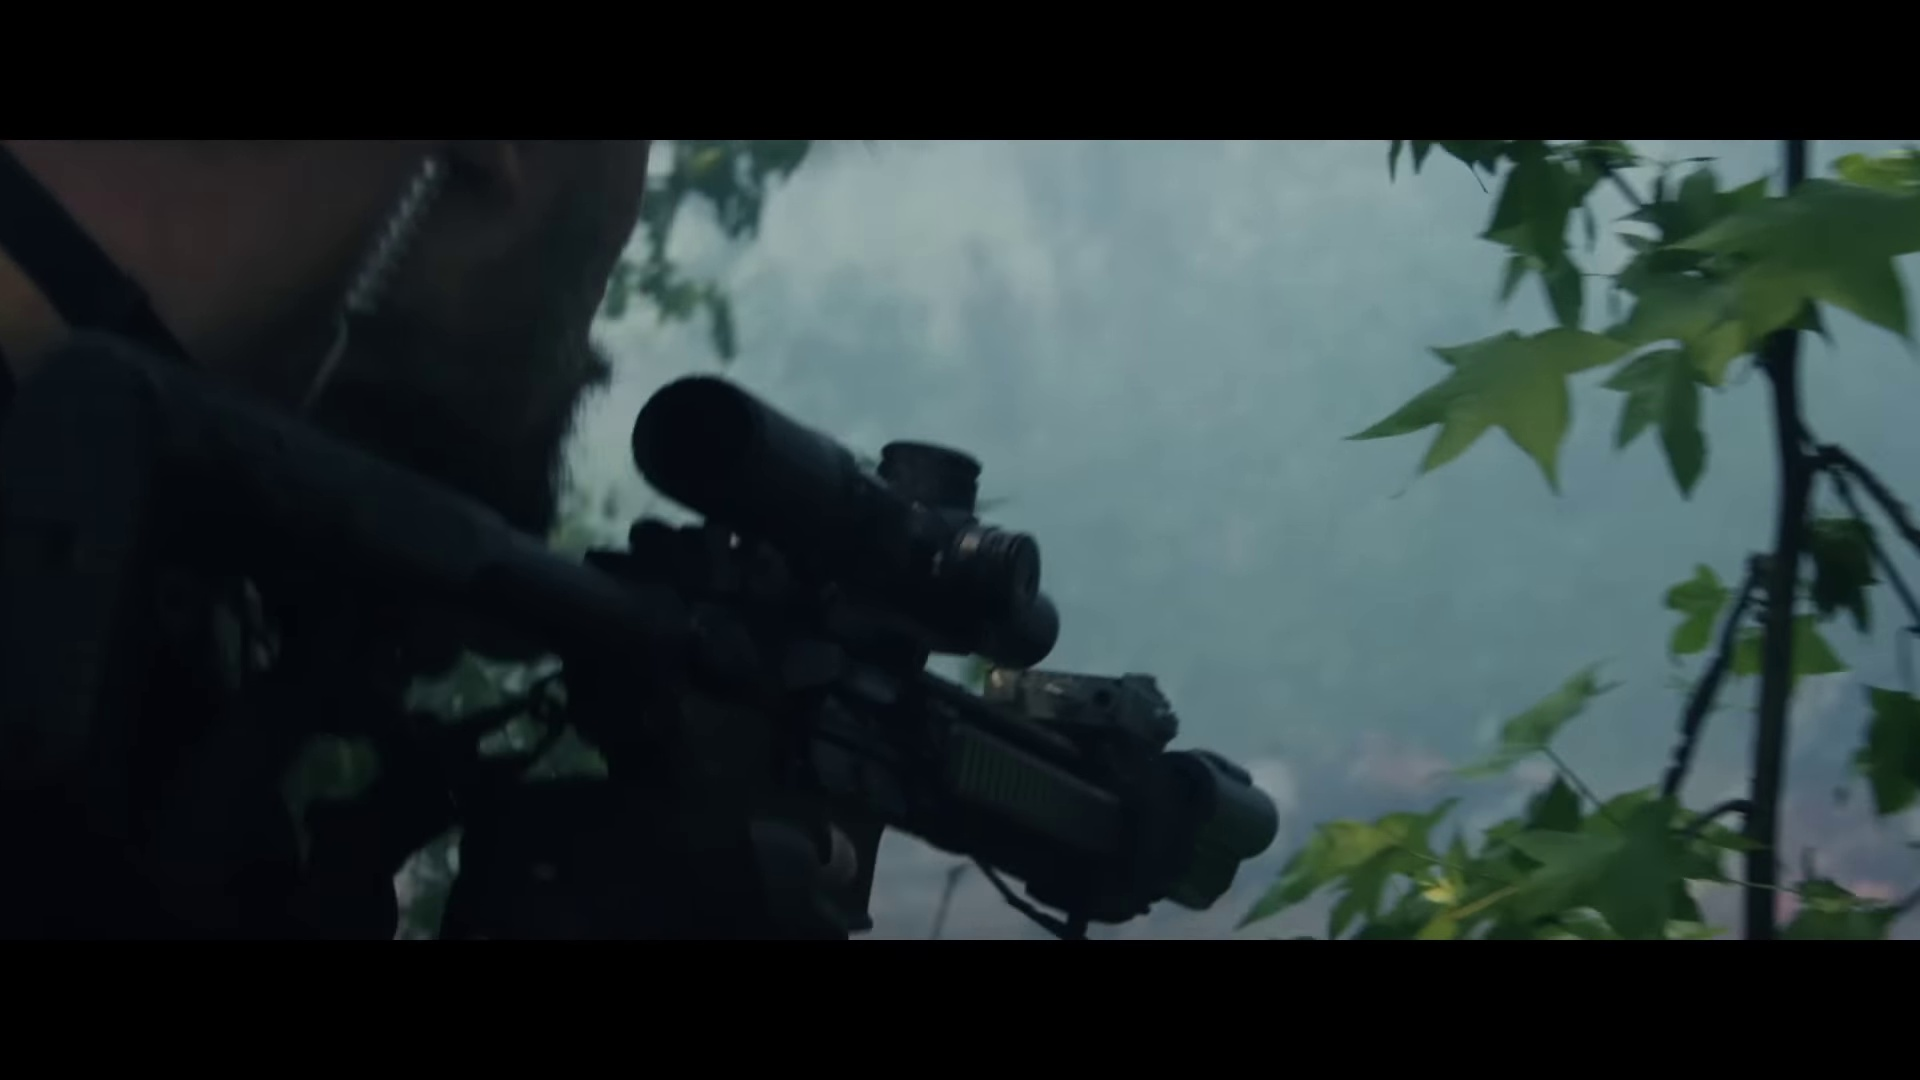gun: (0, 298, 1276, 947)
p_w_gun: (0, 140, 1284, 943)
